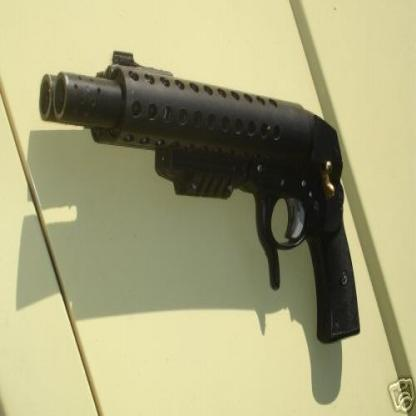gun: (47, 39, 364, 349)
